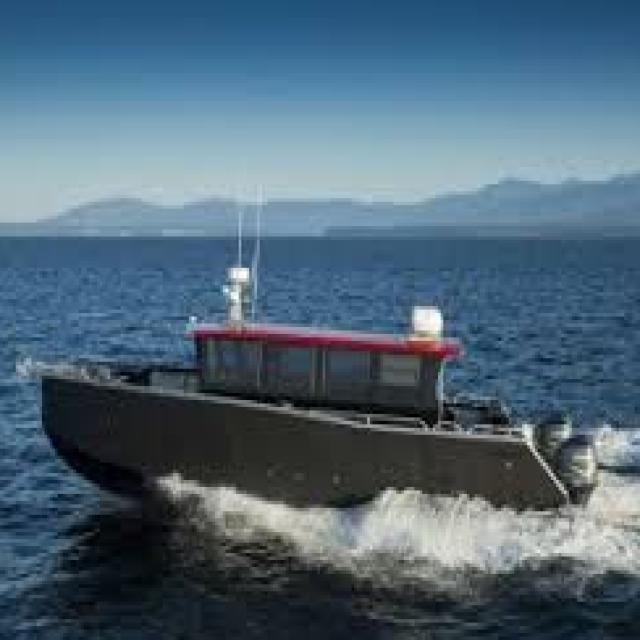houseboat: (36, 251, 601, 521)
